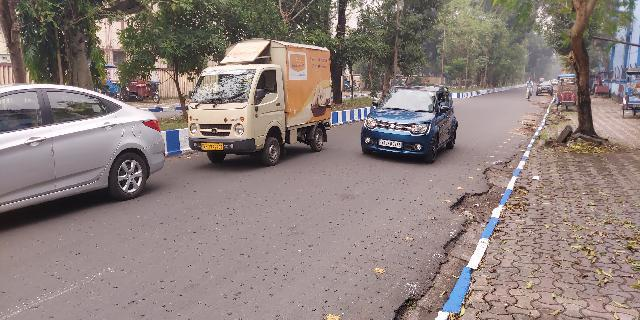Car: (1, 81, 168, 225), (361, 82, 460, 161)
Minitruck: (185, 37, 336, 167)
